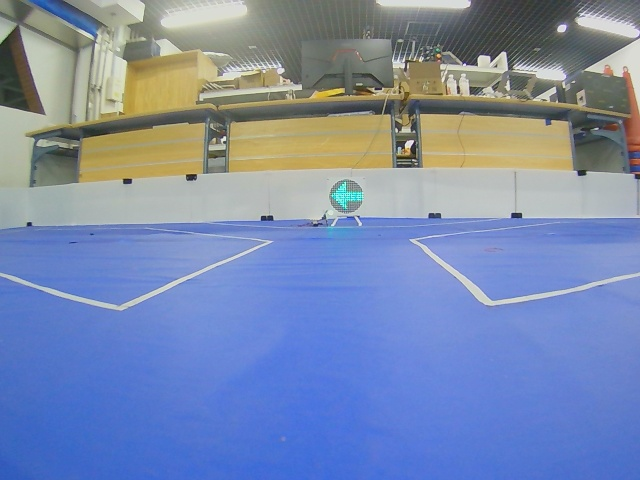left_green: (330, 180, 364, 213)
